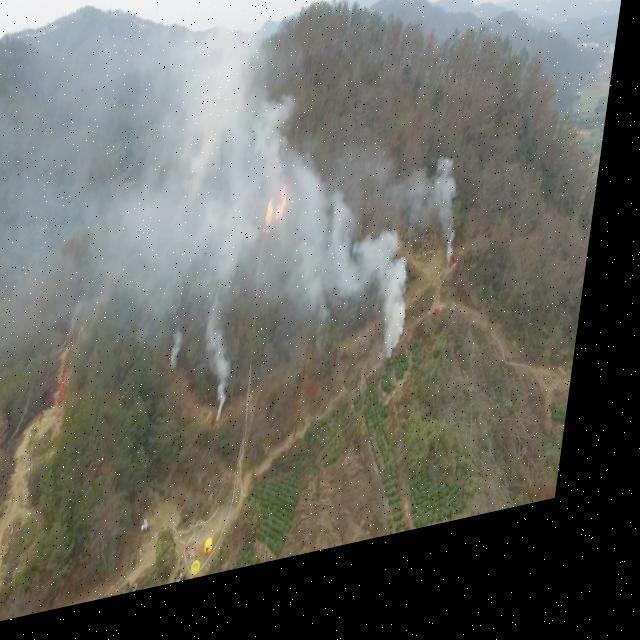Fire: (258, 184, 308, 262)
